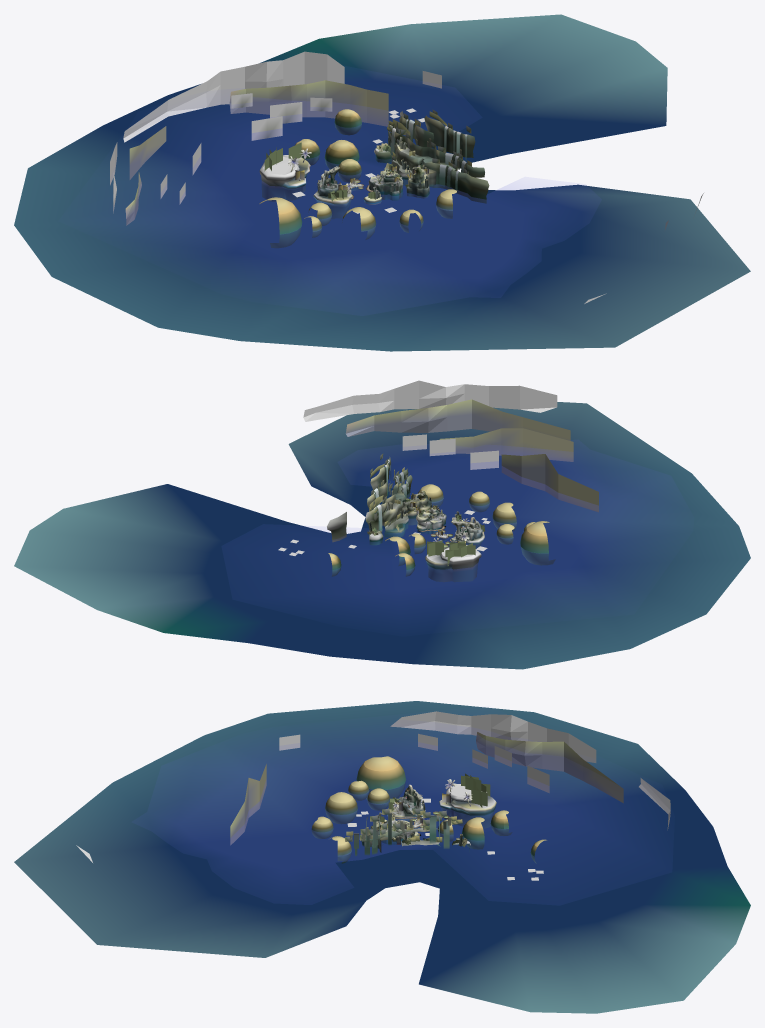
The model's file is 08End.gltf.
3 renders of one model, top to bottom at view 1: azimuth 30°, elevation 25°; view 2: azimuth 150°, elevation 25°; view 3: azimuth 270°, elevation 25°, orthographic. The views are drawn at different scales.
Visible parts, largest first — view 1: stg020_o20_Mesh_28, stg020_w24_Mesh_0, stg020_p20_Mesh_45, stg020_o20_Mesh_8, stg020_o20_Mesh_15, stg020_p20_Mesh_18, stg020_p20_Mesh_27, stg020_o20_Mesh_10, stg020_falls_w_20_Mesh_0000; view 2: stg020_o20_Mesh_28, stg020_w24_Mesh_0, stg020_p20_Mesh_45, stg020_o20_Mesh_8, stg020_o20_Mesh_15, stg020_p20_Mesh_18, stg020_p20_Mesh_27, stg020_o20_Mesh_10; view 3: stg020_o20_Mesh_28, stg020_w24_Mesh_0, stg020_p20_Mesh_45, stg020_o20_Mesh_15, stg020_o20_Mesh_8, stg020_p20_Mesh_27, stg020_p20_Mesh_18, stg020_o20_Mesh_10, stg020_falls_w_20_Mesh_0000.
Boxes of the visible parts, <box> form: stg020_o20_Mesh_28: <box>14,14,750,351</box>; stg020_w24_Mesh_0: <box>139,100,572,302</box>; stg020_p20_Mesh_45: <box>110,51,703,303</box>; stg020_o20_Mesh_8: <box>259,111,489,219</box>; stg020_o20_Mesh_15: <box>270,112,452,248</box>; stg020_p20_Mesh_18: <box>160,71,441,204</box>; stg020_p20_Mesh_27: <box>264,109,471,201</box>; stg020_o20_Mesh_10: <box>259,109,456,223</box>; stg020_falls_w_20_Mesh_0000: <box>390,119,467,191</box>; stg020_o20_Mesh_28: <box>14,402,750,669</box>; stg020_w24_Mesh_0: <box>285,446,651,610</box>; stg020_p20_Mesh_45: <box>303,380,598,512</box>; stg020_o20_Mesh_8: <box>327,457,484,582</box>; stg020_o20_Mesh_15: <box>331,489,555,576</box>; stg020_p20_Mesh_18: <box>402,434,498,469</box>; stg020_p20_Mesh_27: <box>367,453,485,565</box>; stg020_o20_Mesh_10: <box>328,484,549,560</box>; stg020_o20_Mesh_28: <box>14,701,750,1013</box>; stg020_w24_Mesh_0: <box>158,734,622,891</box>; stg020_p20_Mesh_45: <box>76,711,670,862</box>; stg020_o20_Mesh_15: <box>311,762,537,863</box>; stg020_o20_Mesh_8: <box>361,785,496,852</box>; stg020_p20_Mesh_27: <box>345,773,490,846</box>; stg020_p20_Mesh_18: <box>279,733,549,793</box>; stg020_o20_Mesh_10: <box>315,756,546,846</box>; stg020_falls_w_20_Mesh_0000: <box>354,812,449,855</box>.
Size of the model in its own units: 1136 by 119 by 1131.
